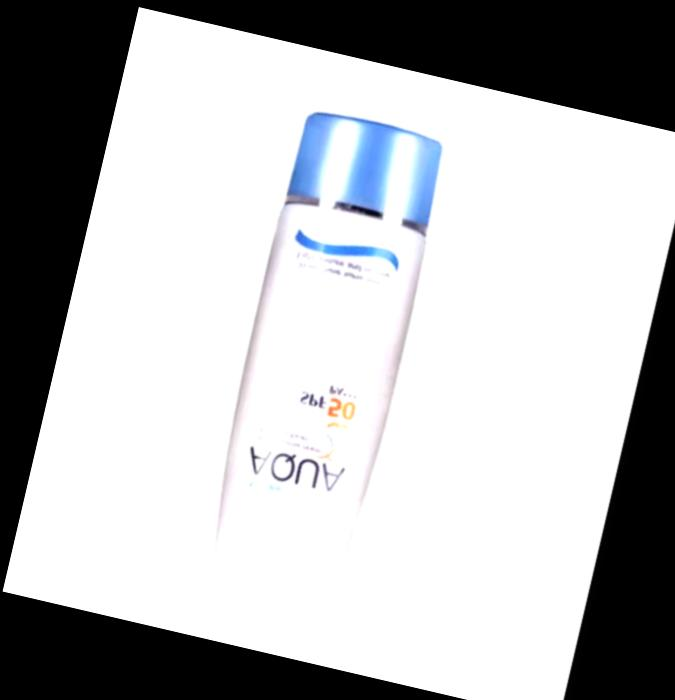cosmetic: (194, 107, 458, 613)
